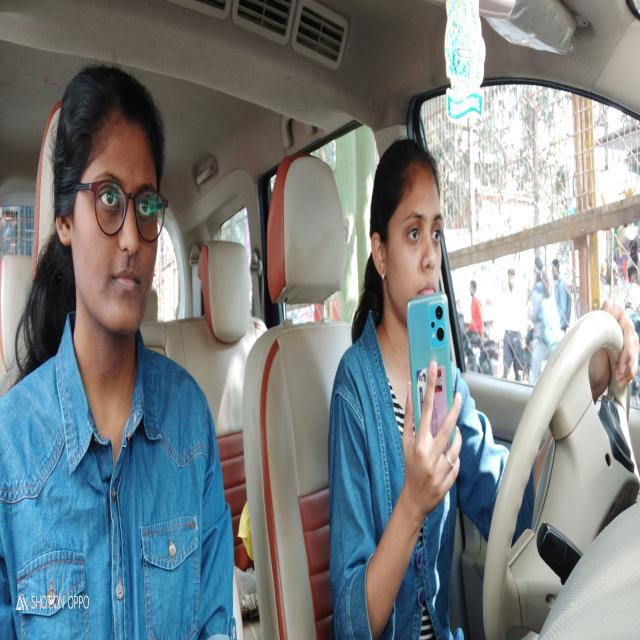mobile: (405, 296, 459, 455)
person: (48, 59, 171, 342), (366, 136, 452, 323)
